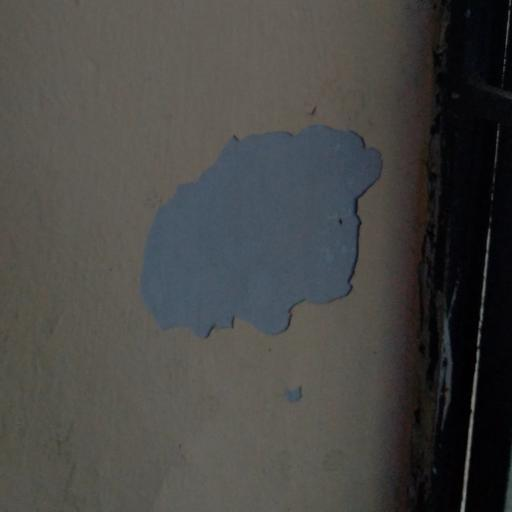peeling: (113, 86, 381, 357), (281, 374, 316, 401)
